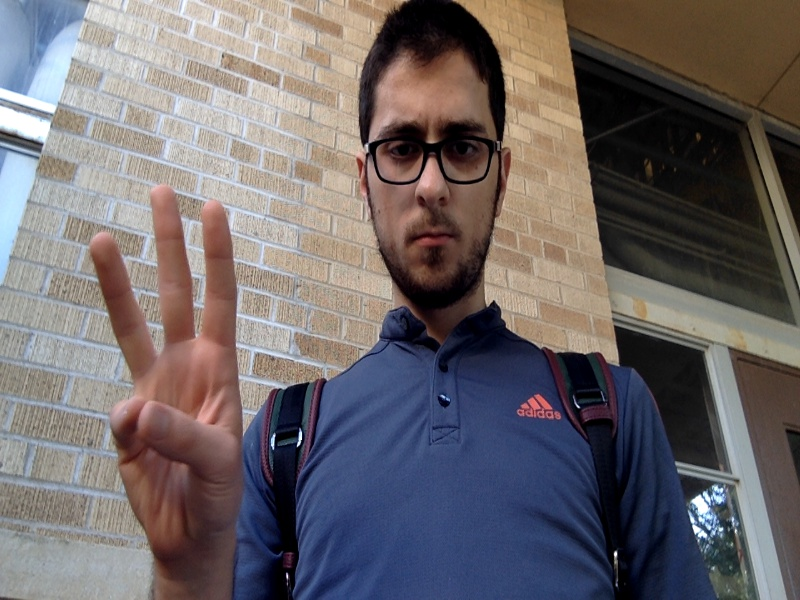3-hand: (90, 185, 242, 568)
